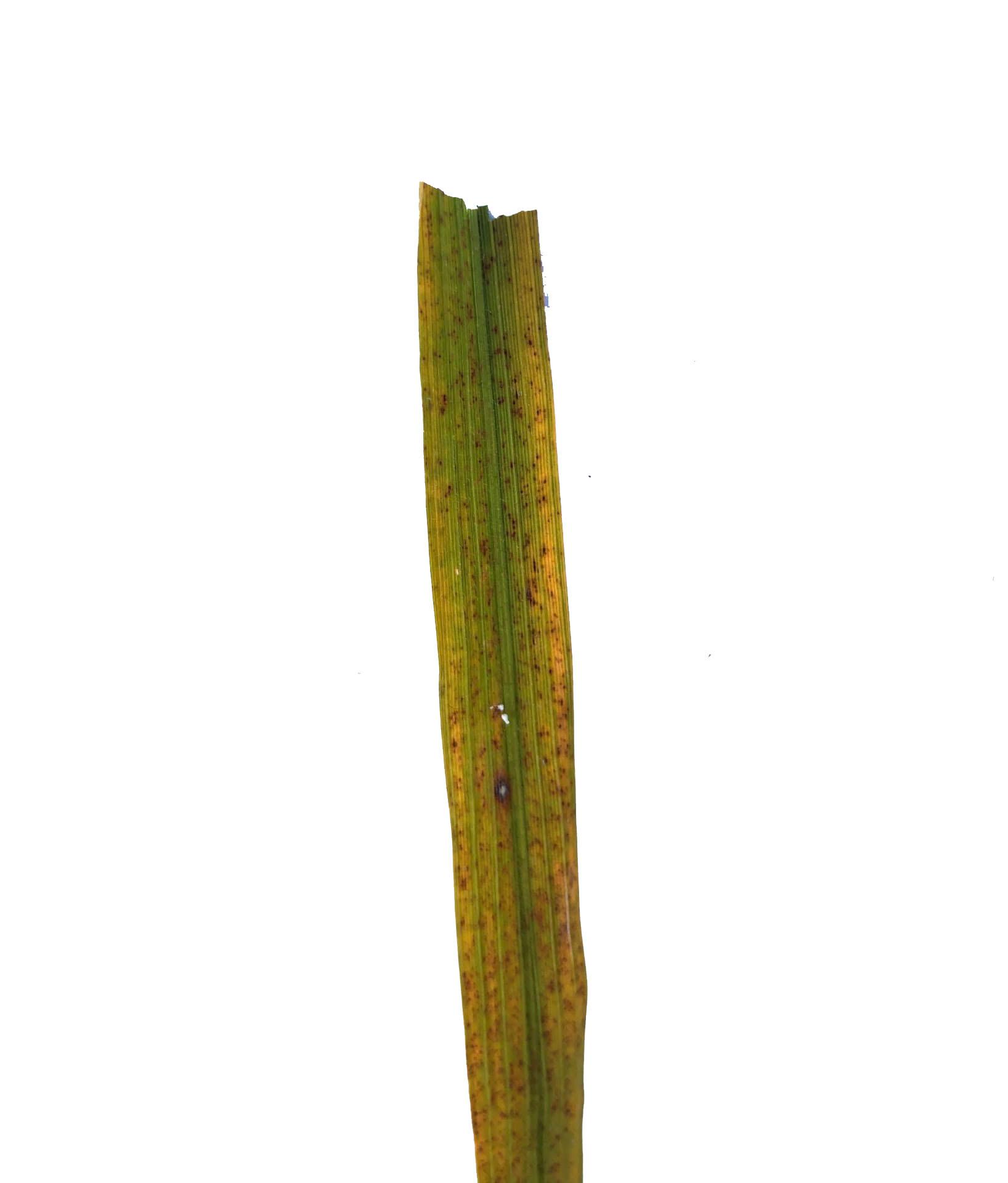Tungro: (427, 208, 582, 1183)
